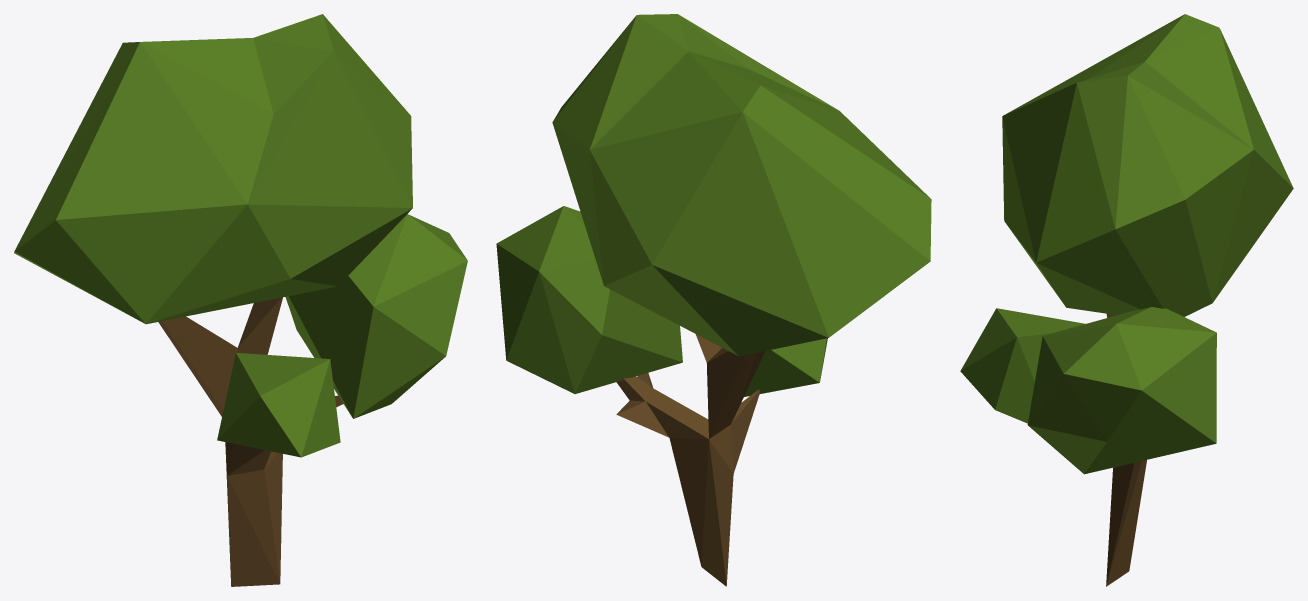
The picture shows the model from 3 angles, left to right: view 1: azimuth 30°, elevation 25°; view 2: azimuth 150°, elevation 25°; view 3: azimuth 270°, elevation 25°; orthographic projection. The views are drawn at different scales.
Parts seen in each view (by area): view 1: Tree1_1; view 2: Tree1_1; view 3: Tree1_1.
Boxes of the visible parts, bbox=[...] form: Tree1_1: bbox=[14, 14, 467, 586]; Tree1_1: bbox=[496, 14, 931, 586]; Tree1_1: bbox=[960, 14, 1293, 586].
Bounding box in the file's own units: 6.04 × 7.31 × 4.1.
